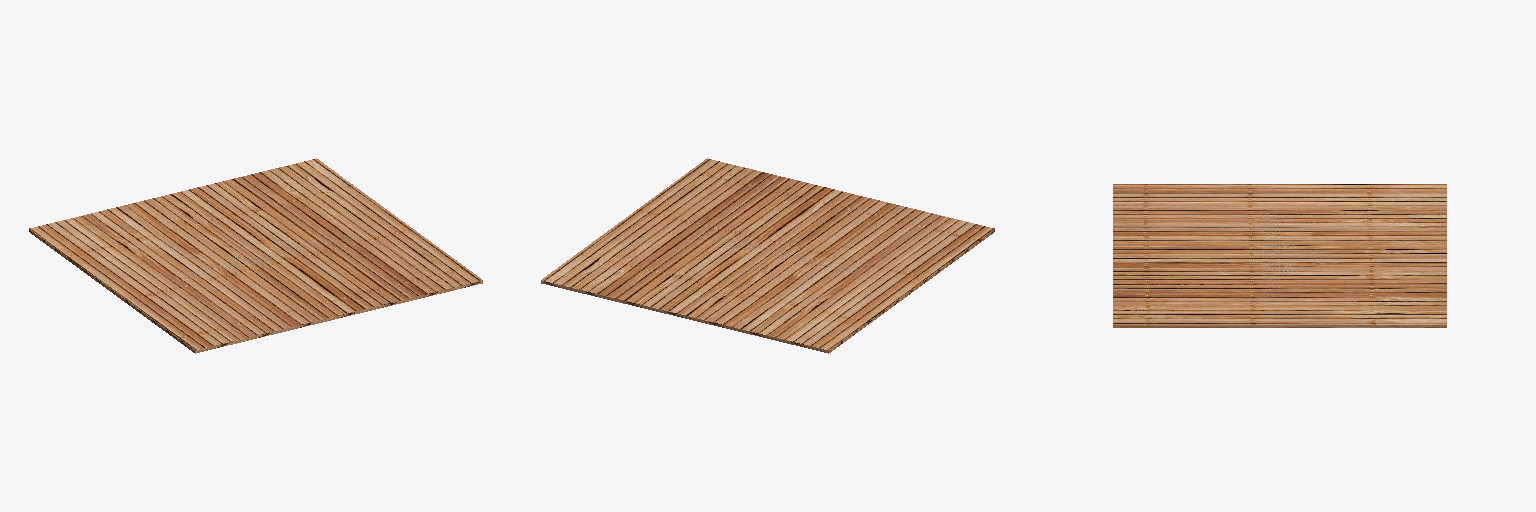
3 renders of one model, left to right at view 1: azimuth 30°, elevation 25°; view 2: azimuth 150°, elevation 25°; view 3: azimuth 270°, elevation 25°, orthographic.
Parts seen in each view (by area): view 1: Cube; view 2: Cube; view 3: Cube.
Part boxes in pixels (x1,y1,x2,y2): Cube: (29,158,482,353); Cube: (541,158,994,353); Cube: (1113,184,1446,327).
Bounding box in the file's own units: 200 × 2 × 200.
Materials: 1 (1 with a texture image).